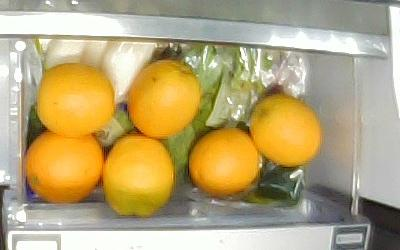orange: (26, 128, 103, 204), (103, 135, 173, 218), (125, 60, 200, 135), (38, 64, 115, 135), (249, 96, 321, 167), (190, 128, 259, 195)
